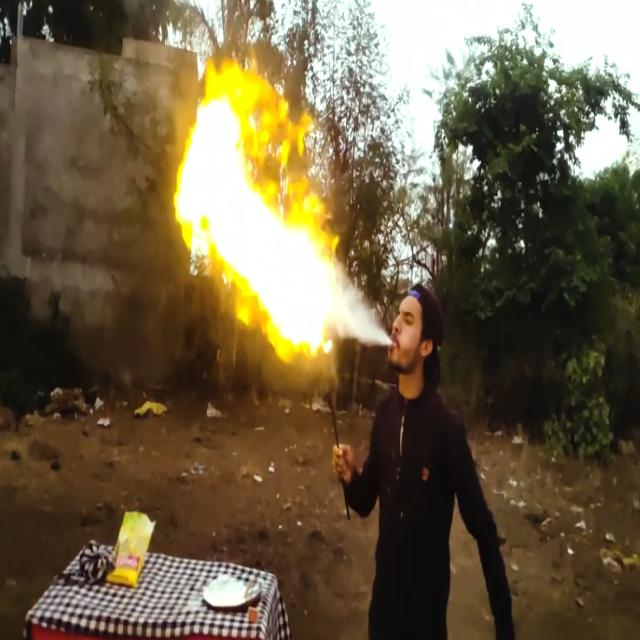fire: (174, 99, 338, 360), (205, 48, 313, 166)
